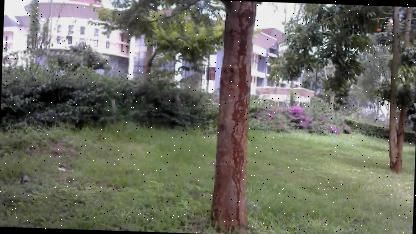tree: (264, 2, 416, 173), (197, 0, 266, 233)
